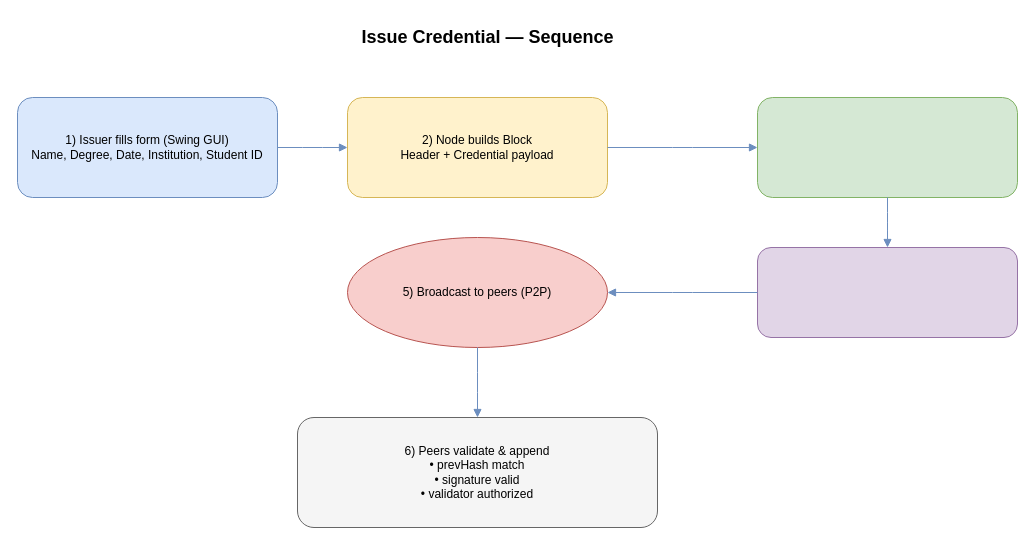
Some shapes in this 1035 by 545 pixel diagram are drawn without their labels. Each missing label, with the centre of its shape:
"3) Validator signs Block (private key)" belongs at (x=887, y=147).
"4) Append to local chain (check hashes)" belongs at (x=887, y=292).
